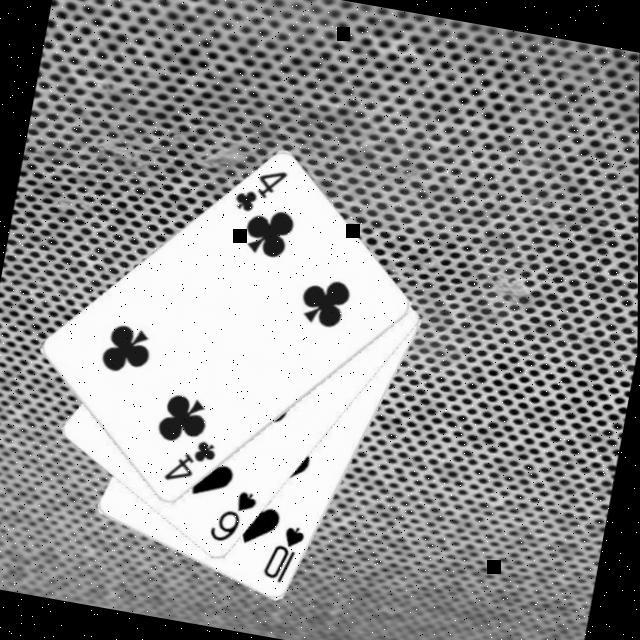10S: (258, 519, 308, 590)
4C: (228, 161, 290, 222), (160, 432, 220, 492)
6S: (204, 484, 261, 551)
